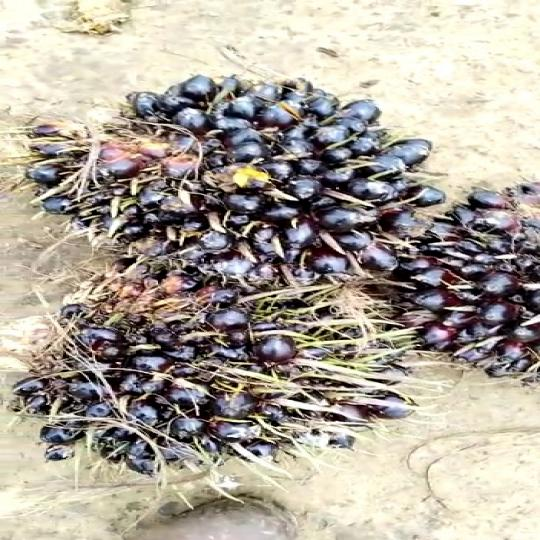mentah: (19, 72, 428, 290), (3, 282, 409, 495), (383, 178, 540, 379)
